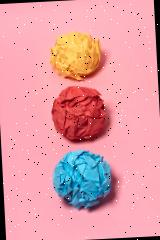paper: (51, 148, 113, 210), (50, 84, 107, 142), (48, 30, 103, 82)
